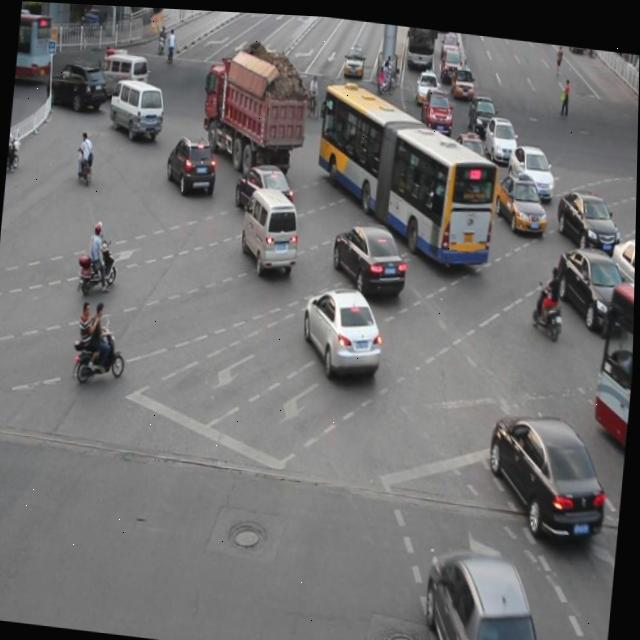bus: (200, 56, 309, 175)
car: (483, 400, 613, 541), (421, 535, 554, 640), (300, 277, 387, 377), (550, 236, 633, 329), (330, 215, 410, 295), (552, 180, 623, 253), (233, 156, 296, 220), (493, 162, 550, 229), (163, 130, 219, 197), (506, 137, 554, 194), (447, 124, 491, 180), (605, 226, 636, 299)
truck: (238, 178, 303, 274), (108, 74, 167, 140)
van: (310, 77, 502, 263), (586, 266, 636, 490)
